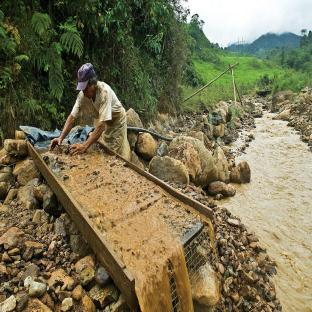Person: (62, 60, 131, 157)
ProcessingEquipment: (25, 128, 217, 312)
